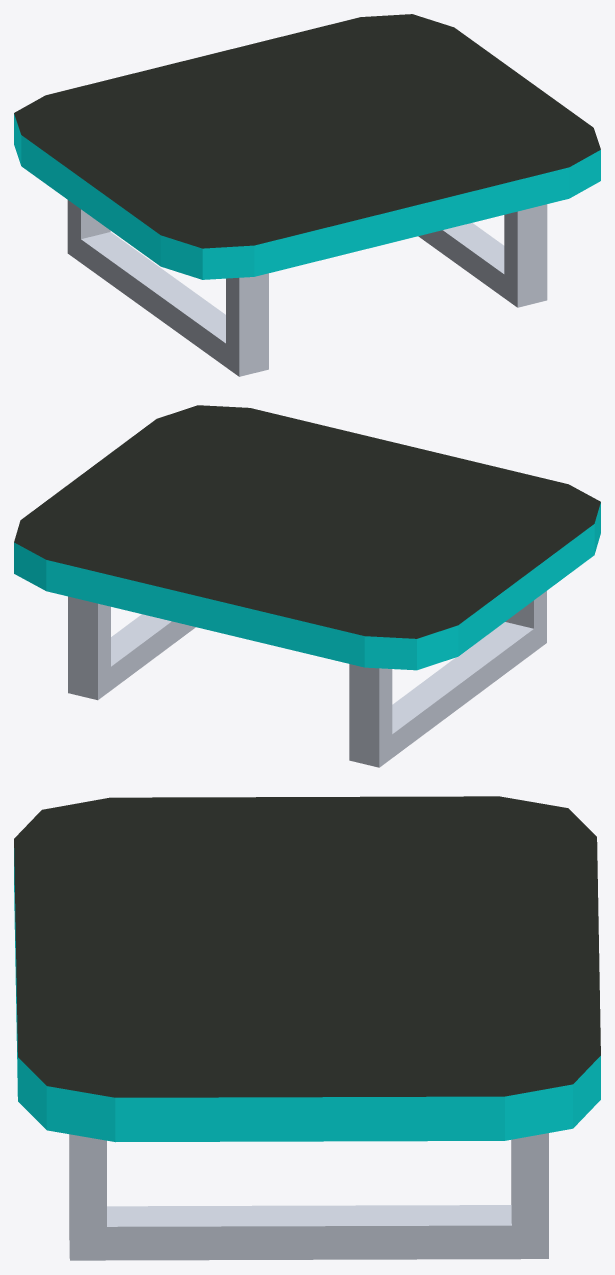
The model's file is Coffee_Table.glb.
3 views of the same model, one above another, from view 1: azimuth 30°, elevation 25°; view 2: azimuth 150°, elevation 25°; view 3: azimuth 270°, elevation 25° (orthographic). The views are drawn at different scales.
Parts seen in each view (by area): view 1: CoffeTable; view 2: CoffeTable; view 3: CoffeTable.
Boxes of the visible parts, x1,y1,x2,y2 form: CoffeTable: (14,14,600,376); CoffeTable: (14,405,600,767); CoffeTable: (14,796,600,1260).
Size of what is drawn, in the model's own units: 1.47 by 0.467 by 1.21.
1 material, 1 textured.
